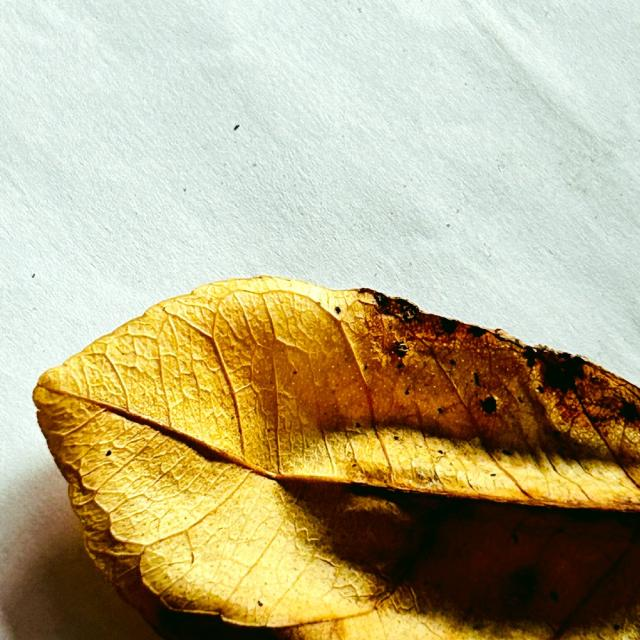DryLeaf_Lemon: (33, 276, 639, 639)
